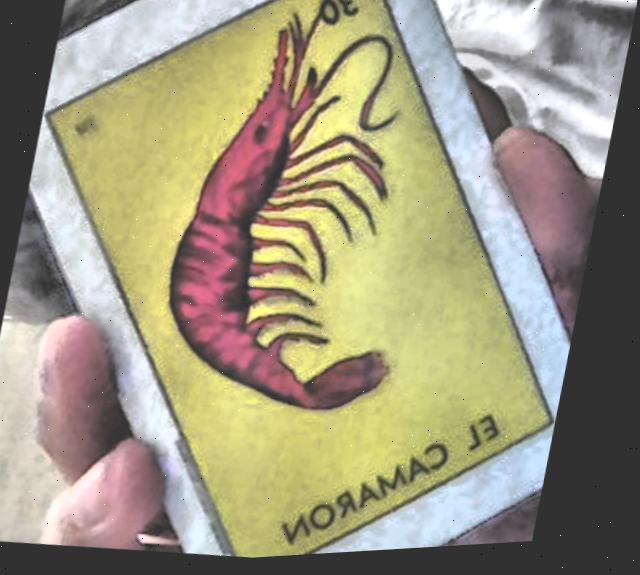El Camaron: (44, 0, 557, 561)
